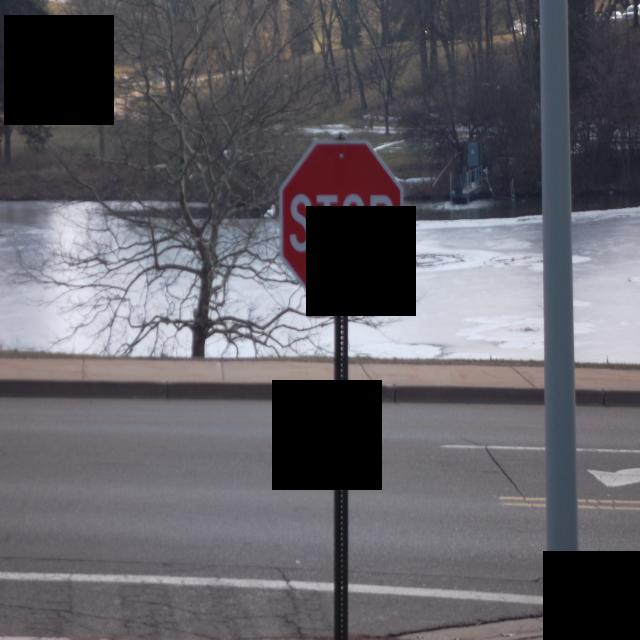stop: (273, 132, 413, 310)
